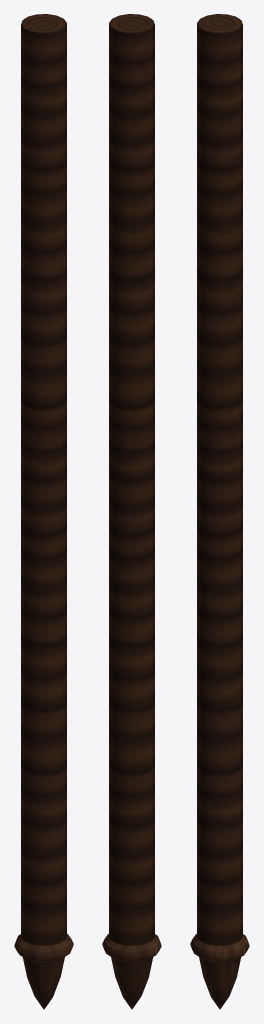
The model's file is HangingRope.fbx.
3 renders of one model, left to right at view 1: azimuth 30°, elevation 25°; view 2: azimuth 150°, elevation 25°; view 3: azimuth 330°, elevation 25°, orthographic.
Visible parts, largest first — view 1: HangingRope; view 2: HangingRope; view 3: HangingRope.
Boxes of the visible parts, box(x1,y1,x2,y2) form: HangingRope: box(14, 14, 73, 1009); HangingRope: box(102, 14, 161, 1009); HangingRope: box(190, 14, 249, 1009).
Bounding box in the file's own units: 0.3574 × 6.5 × 0.3485.
